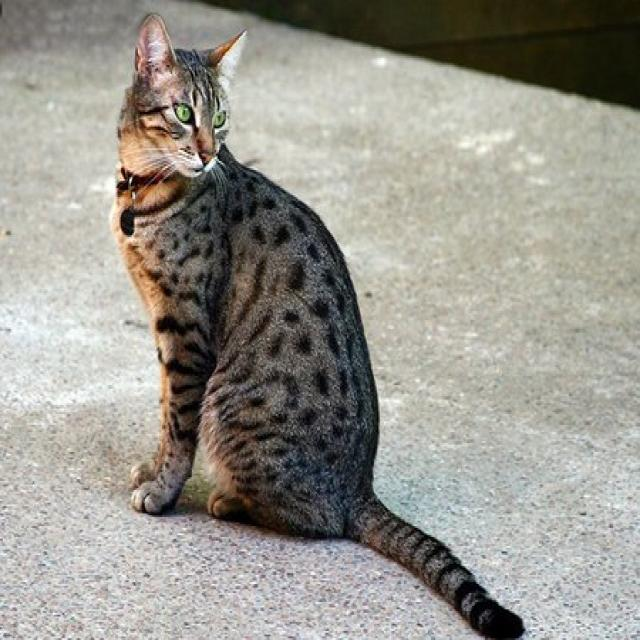Egyptian_Mau: (132, 11, 245, 175)
